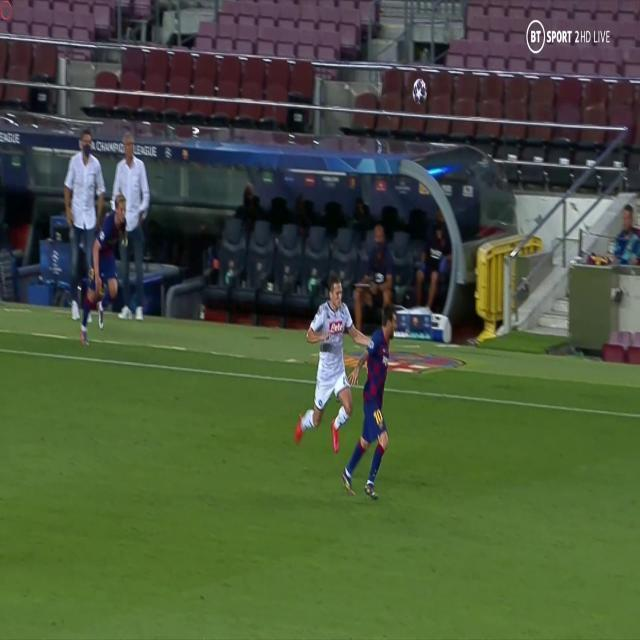ball: (408, 75, 431, 108)
player: (289, 266, 370, 466), (341, 278, 404, 498), (85, 193, 129, 350)
